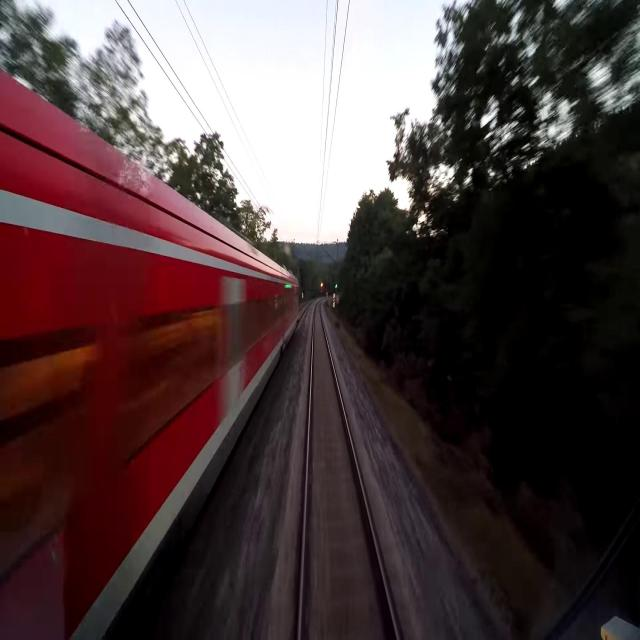rail-track: (301, 302, 396, 639)
